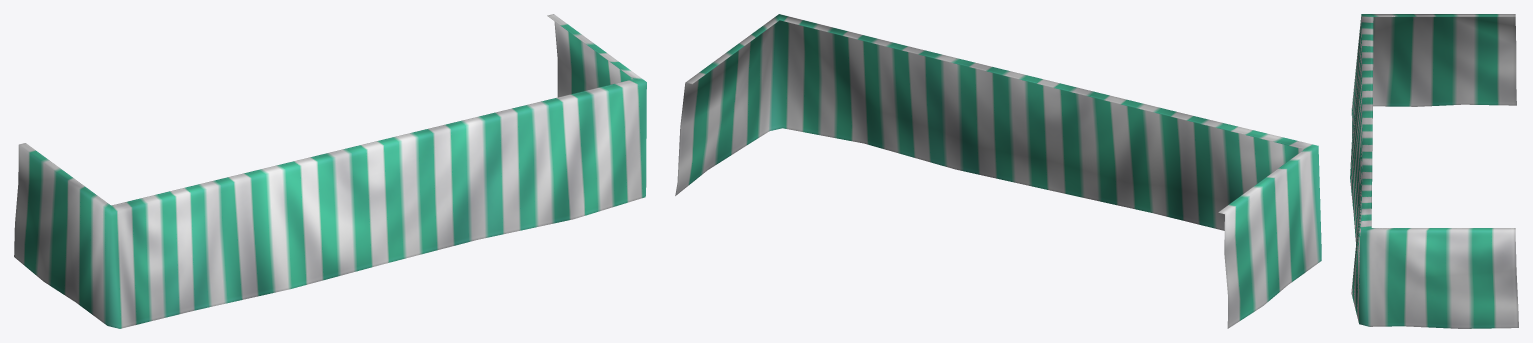
Rendered from jsf_BlindfoldCloth_4P_s01_01.fbx.
3 views of the same model, side by side, from view 1: azimuth 30°, elevation 25°; view 2: azimuth 150°, elevation 25°; view 3: azimuth 270°, elevation 25° (orthographic). The views are drawn at different scales.
Visible parts, largest first — view 1: jsf_BlindfoldCloth_4P_s01_01; view 2: jsf_BlindfoldCloth_4P_s01_01; view 3: jsf_BlindfoldCloth_4P_s01_01.
Part boxes in pixels (box(x1,y1,x2,y2)): jsf_BlindfoldCloth_4P_s01_01: box(14, 14, 646, 328); jsf_BlindfoldCloth_4P_s01_01: box(675, 14, 1321, 328); jsf_BlindfoldCloth_4P_s01_01: box(1350, 14, 1518, 328).
Bounding box in the file's own units: 153 × 30.11 × 48.69.
